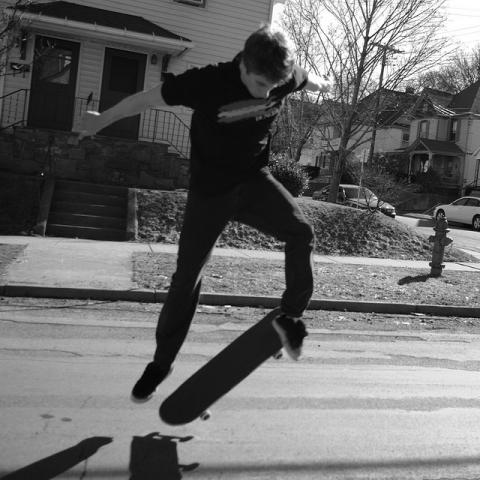car: (311, 182, 397, 217), (433, 197, 479, 232)
